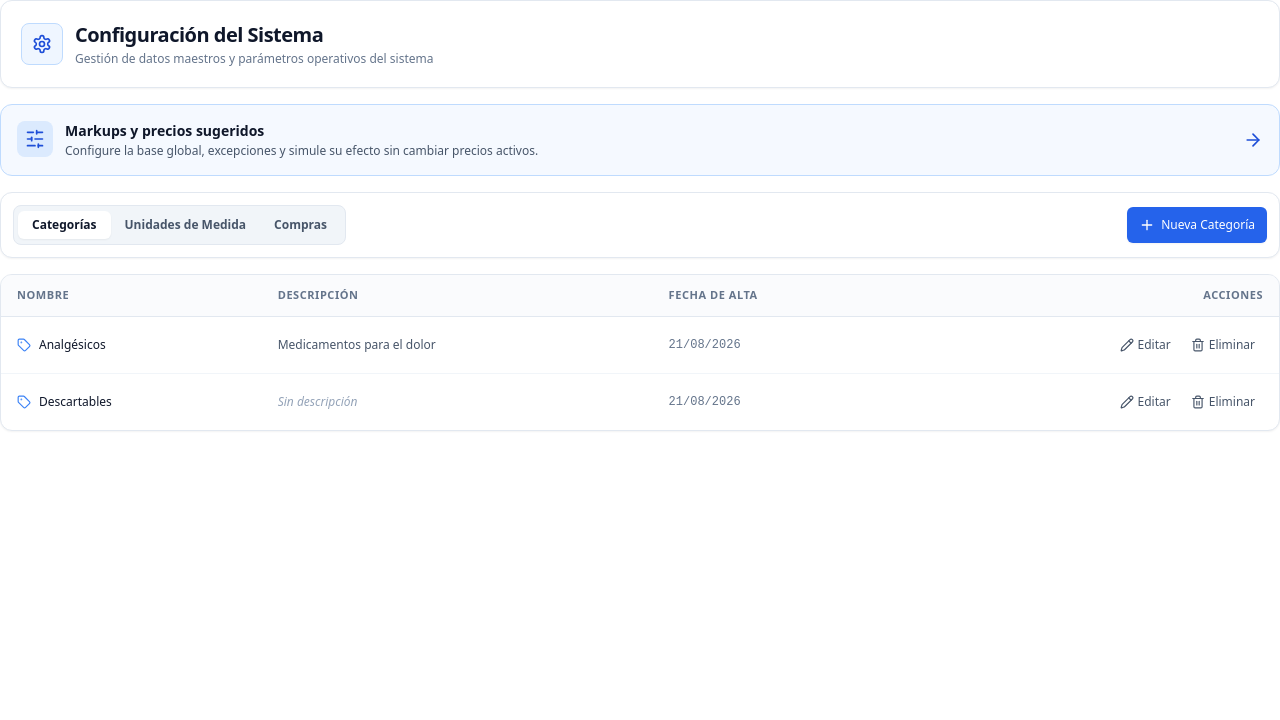
it: SettingsPage master catalog management › Categories CRUD Operations › edits an existing category and sends delta payload
The image size is (1280, 720).
Expected: the heading "Configuración del Sistema" is shown, [75,21,323,48]
Step 1. Click the button with aria-label "Editar categoría Analgésicos" → click(1145, 344), box [1112,328,1179,360]
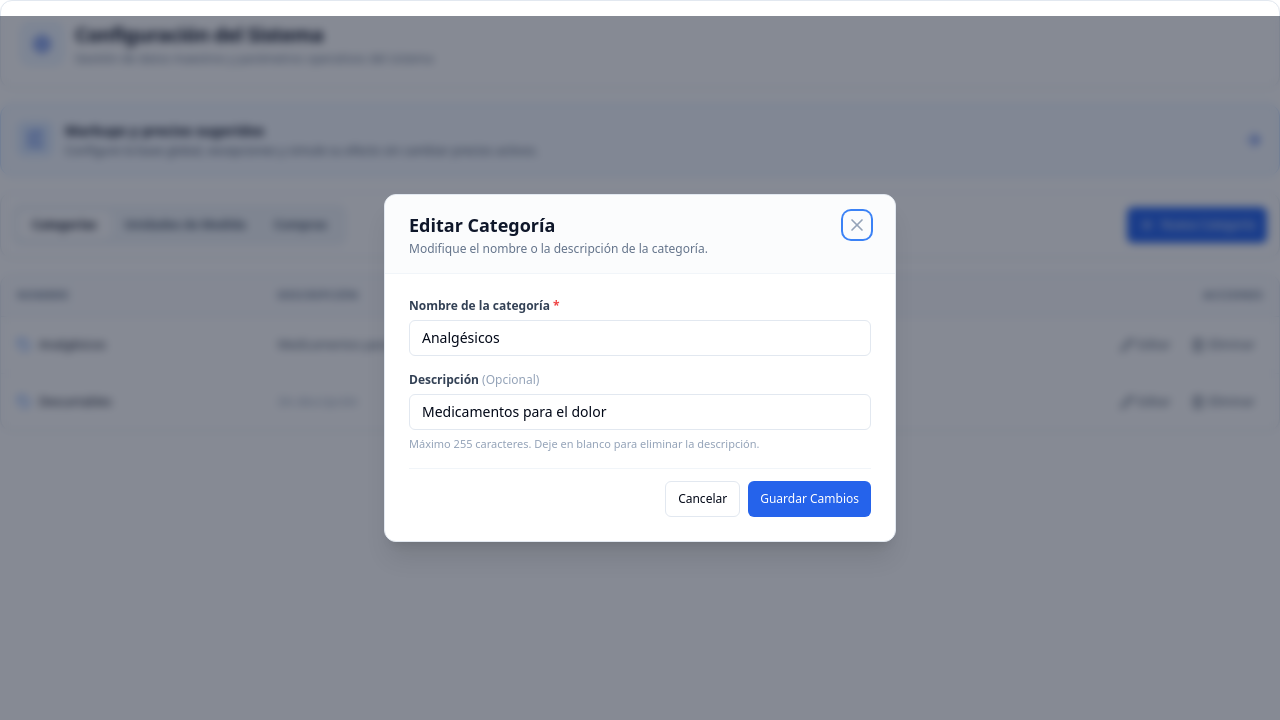
Expected: the heading "Editar Categoría" is shown, [409,213,555,237]
Expected: the field labelled "Nombre de la categoría *" holds "Analgésicos", [409,320,871,356]
Step 2. Click the button "Guardar Cambios" → click(810, 499), box [748,481,871,517]
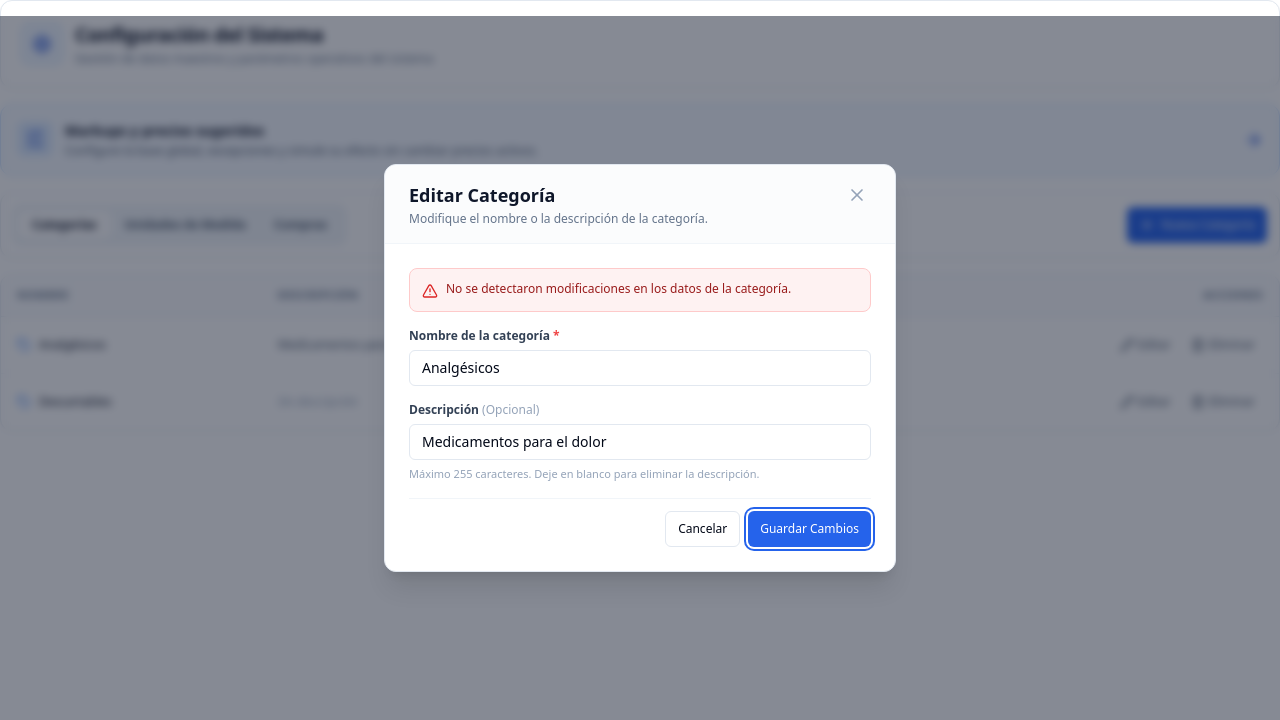
Expected: the text "No se detectaron modificaciones en los datos de la categoría." is shown, [446,280,791,297]
Modify description only
Step 3. Replace the text in the field labelled "Descripción (Opcional)" with "Nueva descripción modificada" → (640, 442), box [409,424,871,460]
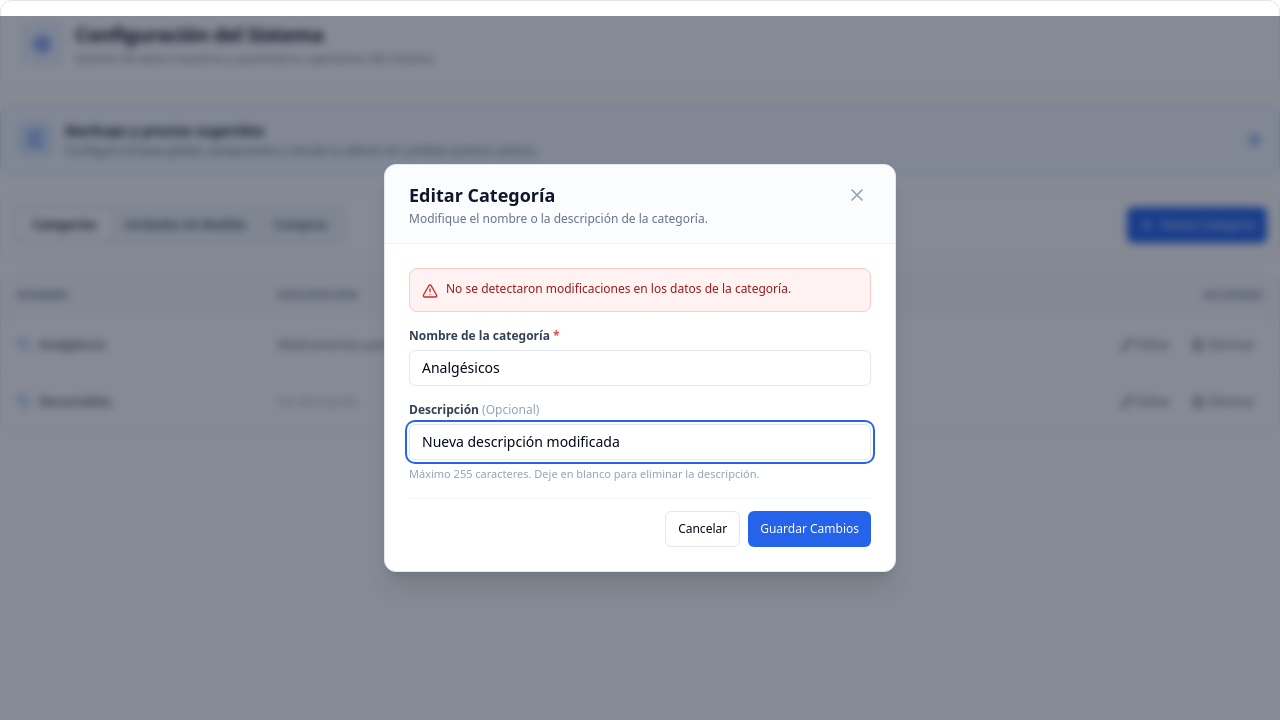
Step 4. Click the button "Guardar Cambios" → click(810, 529), box [748,511,871,547]
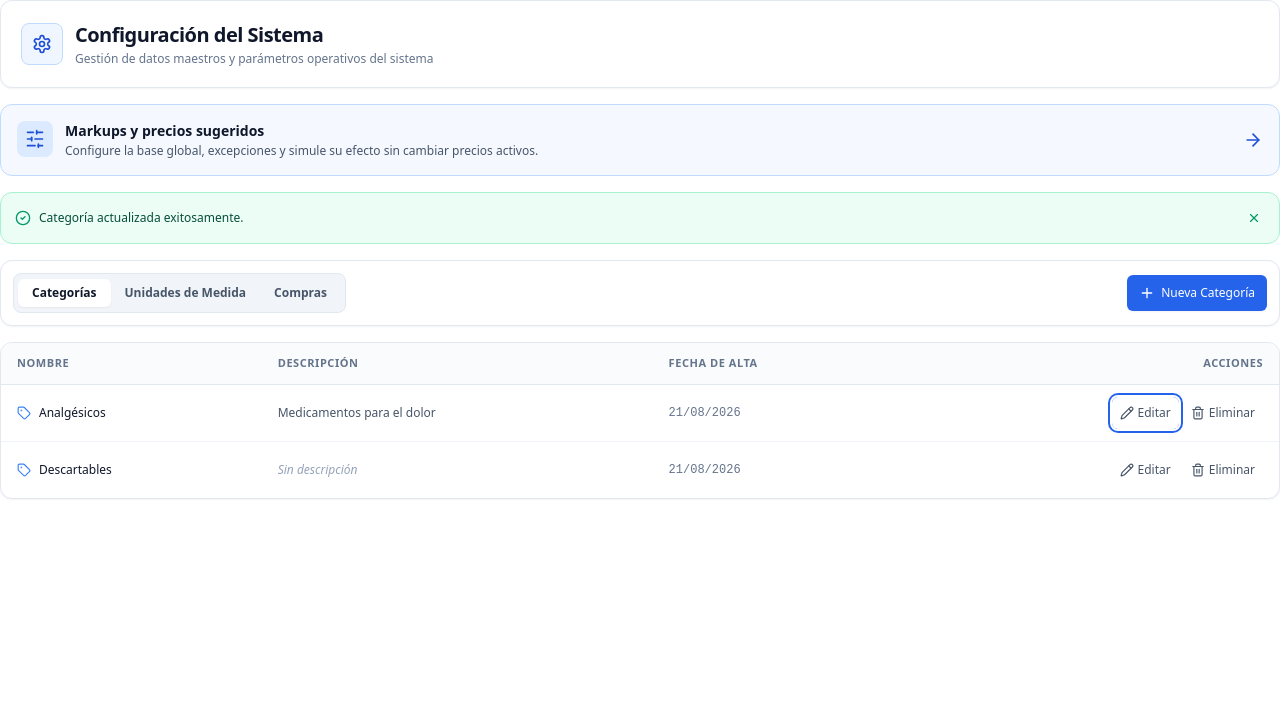
Expected: the dialog is gone
Expected: the text "Categoría actualizada exitosamente." is shown, [39,210,244,226]
